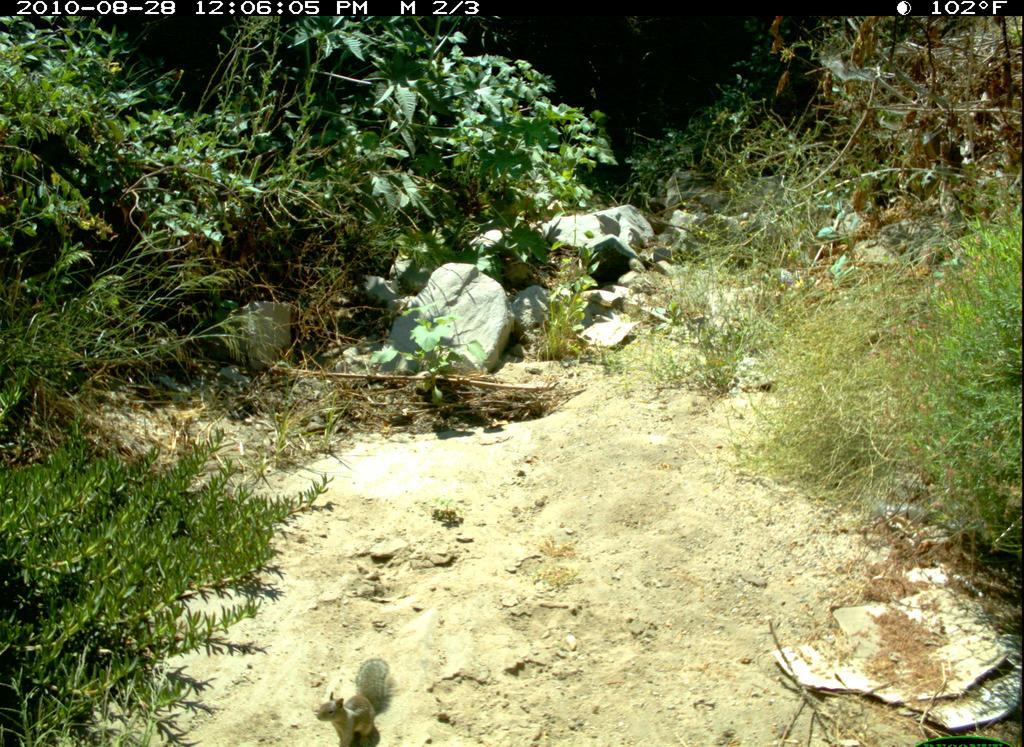squirrel: (318, 653, 410, 747)
